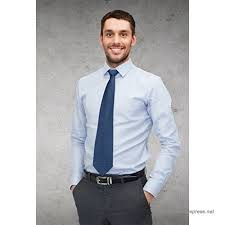F_belt: (82, 169, 151, 188)
F_shirt: (65, 57, 185, 200)
F_tie: (88, 66, 129, 177)
